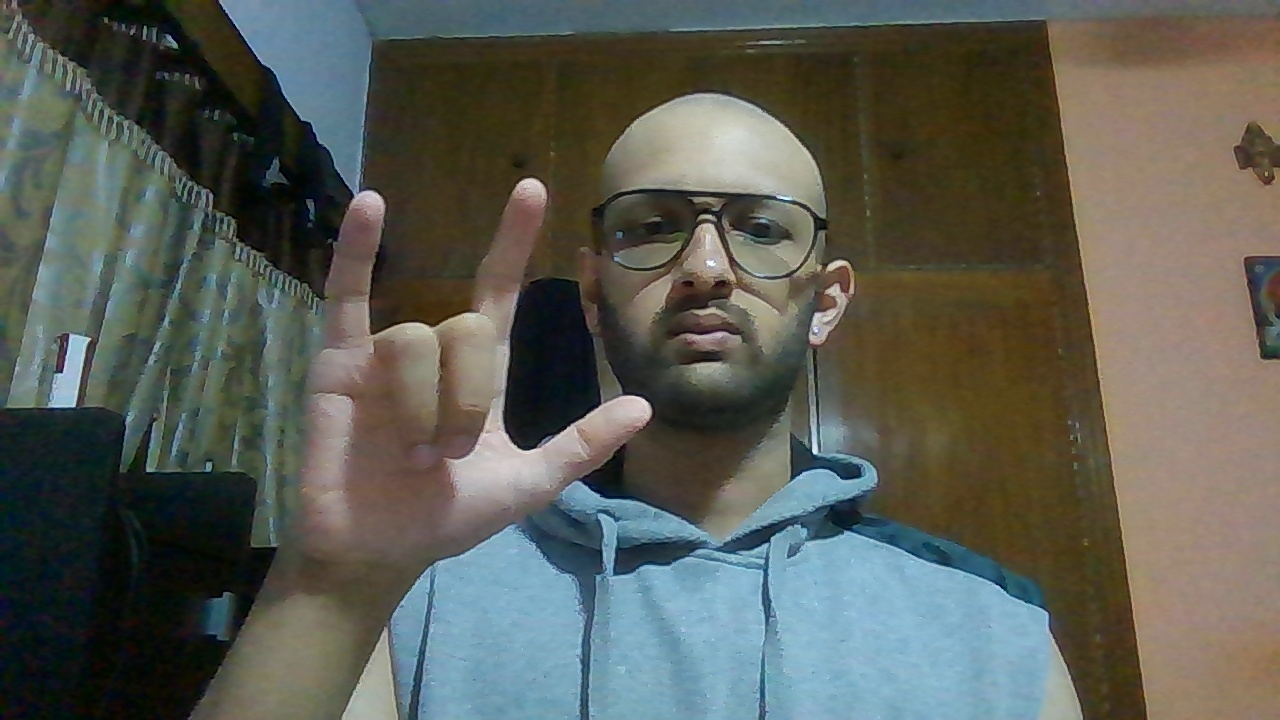I Love You: (293, 179, 658, 568)
